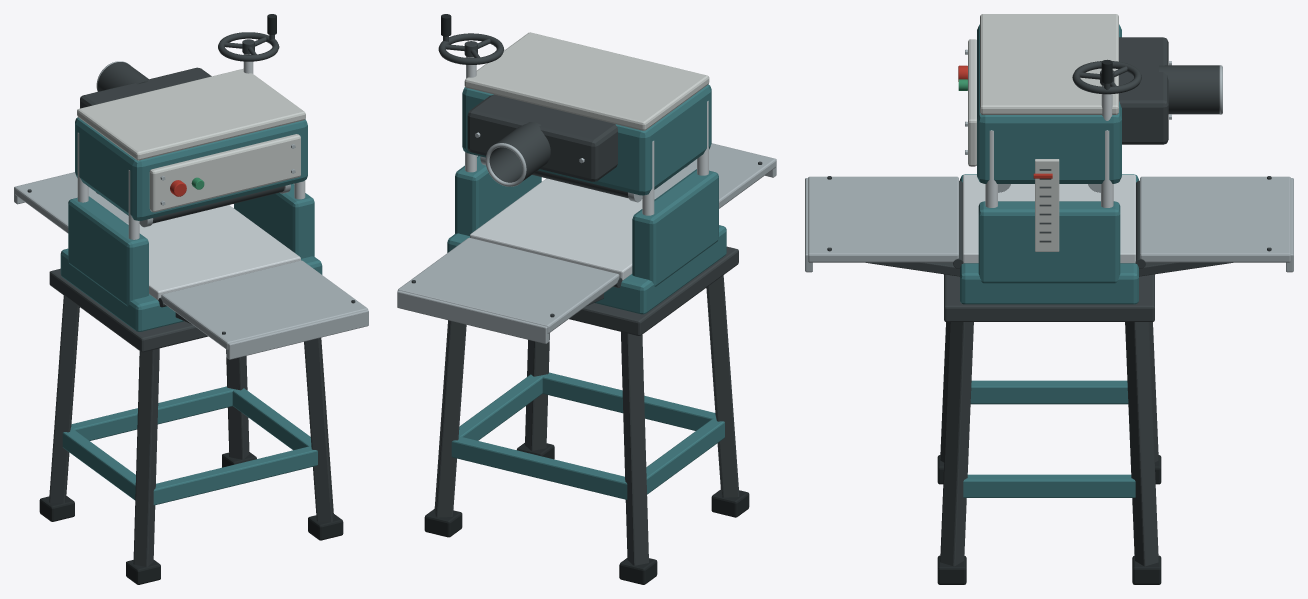
File: city-thickness-planer.glb
3 renders of one model, left to right at view 1: azimuth 30°, elevation 25°; view 2: azimuth 150°, elevation 25°; view 3: azimuth 270°, elevation 25°, orthographic. The views are drawn at different scales.
Parts seen in each view (by area): view 1: Assembly | Deep petrol workshop enamel, Assembly | Charcoal cast machine metal, Assembly | Pale gray machine enamel, Assembly | Satin machined steel, Assembly | Polished guide steel, Assembly | Black rubber grips and tires; view 2: Assembly | Deep petrol workshop enamel, Assembly | Charcoal cast machine metal, Assembly | Satin machined steel, Assembly | Pale gray machine enamel, Assembly | Polished guide steel, Assembly | Black rubber grips and tires; view 3: Assembly | Deep petrol workshop enamel, Assembly | Charcoal cast machine metal, Assembly | Satin machined steel, Assembly | Pale gray machine enamel, Assembly | Polished guide steel, Assembly | Black rubber grips and tires.
Boxes of the visible parts, bbox=[...] form: Assembly | Deep petrol workshop enamel: bbox=[60, 117, 322, 505]; Assembly | Charcoal cast machine metal: bbox=[27, 32, 355, 566]; Assembly | Pale gray machine enamel: bbox=[77, 68, 305, 212]; Assembly | Satin machined steel: bbox=[14, 61, 368, 359]; Assembly | Polished guide steel: bbox=[77, 54, 305, 300]; Assembly | Black rubber grips and tires: bbox=[39, 14, 343, 584]; Assembly | Deep petrol workshop enamel: bbox=[447, 84, 726, 499]; Assembly | Charcoal cast machine metal: bbox=[411, 33, 762, 565]; Assembly | Satin machined steel: bbox=[397, 132, 776, 343]; Assembly | Pale gray machine enamel: bbox=[464, 32, 709, 130]; Assembly | Polished guide steel: bbox=[465, 56, 708, 280]; Assembly | Black rubber grips and tires: bbox=[424, 14, 749, 584]; Assembly | Deep petrol workshop enamel: bbox=[960, 24, 1138, 497]; Assembly | Charcoal cast machine metal: bbox=[827, 37, 1271, 566]; Assembly | Satin machined steel: bbox=[805, 49, 1293, 272]; Assembly | Pale gray machine enamel: bbox=[968, 14, 1118, 251]; Assembly | Polished guide steel: bbox=[963, 85, 1135, 263]; Assembly | Black rubber grips and tires: bbox=[937, 59, 1161, 584].
Size of the model in its own units: 0.706 by 1.47 by 1.24.
